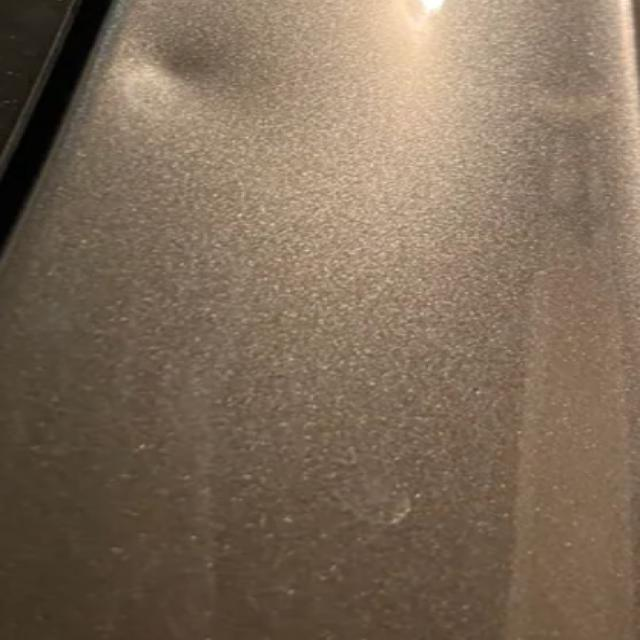dents: (90, 10, 248, 134)
